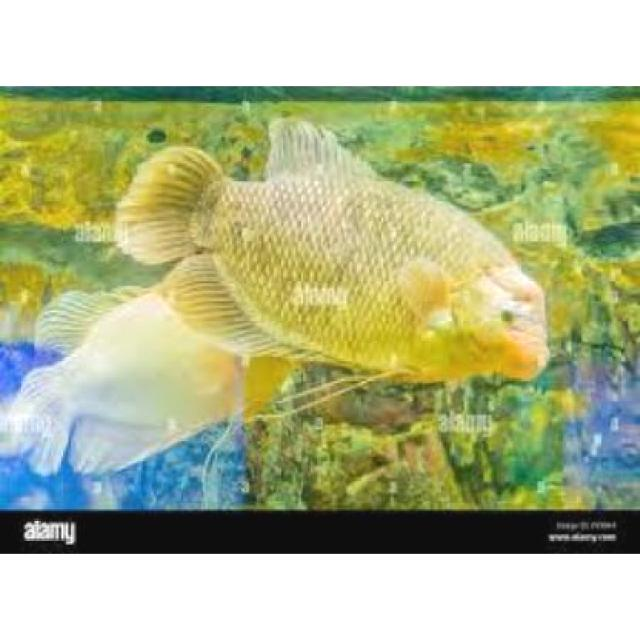gurame: (136, 132, 550, 394)
